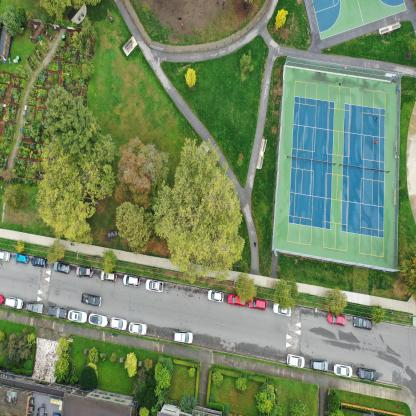Coniferous Tree: (45, 88, 97, 154), (121, 134, 166, 194), (116, 200, 154, 254), (401, 242, 416, 302), (3, 6, 25, 35), (3, 183, 25, 210), (83, 17, 98, 44), (73, 31, 90, 54), (241, 50, 253, 73), (409, 40, 416, 59)
Deciduous Tree: (156, 146, 244, 277), (37, 134, 114, 241), (48, 242, 64, 260), (125, 351, 137, 375), (102, 250, 115, 271), (184, 68, 196, 88), (277, 9, 286, 31), (16, 238, 24, 252)
